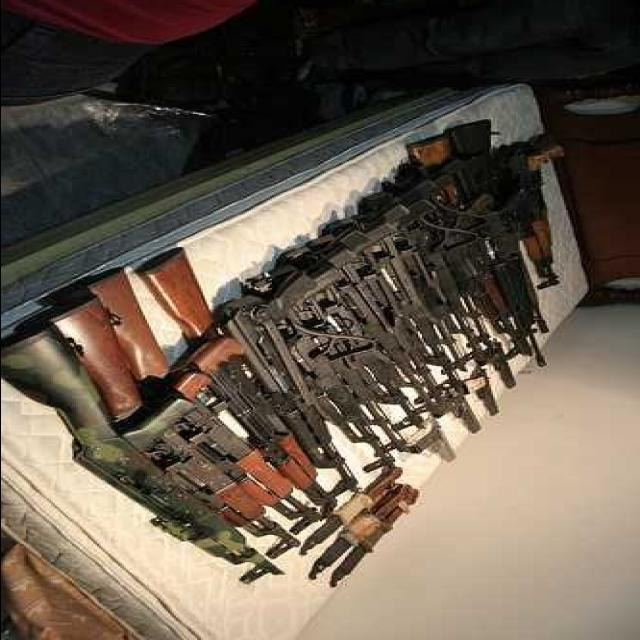heavyweapon: (1, 327, 299, 591)
